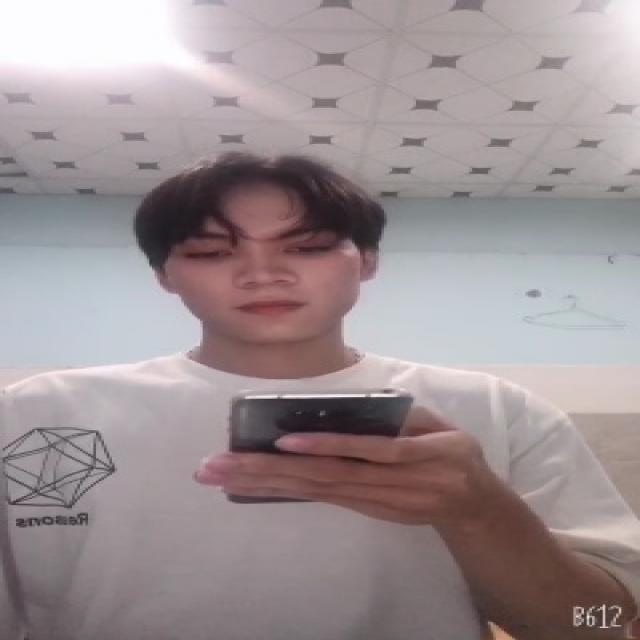Phone: (219, 390, 419, 510)
